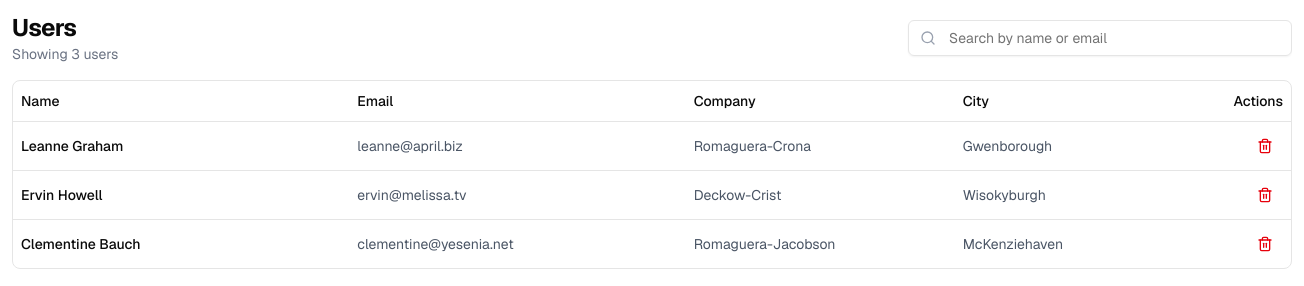
Test: UserTable Integration Tests › Search Functionality › should filter users by name
Expected: the text "Leanne Graham" is shown, [13,121,349,170]
Type "Leanne" into the field with placeholder "Search by name or email" at (1100, 38), box [908,20,1292,56]
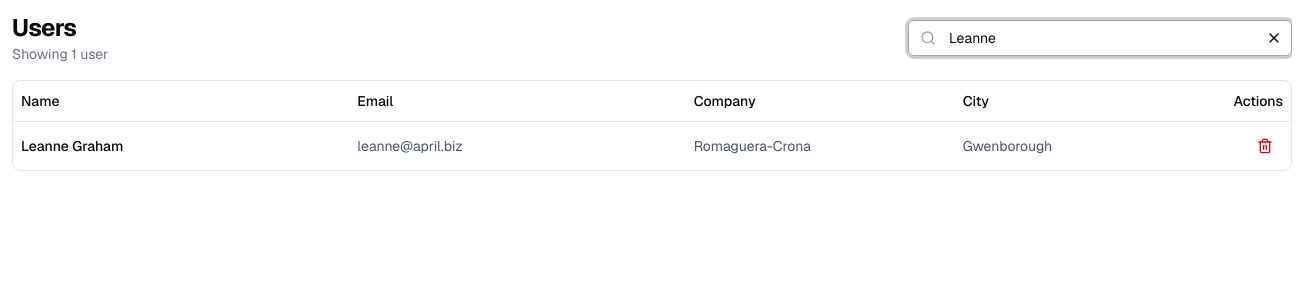
Expected: the text "Leanne Graham" is shown, [13,121,349,170]
Expected: the text "Ervin Howell" is gone
Expected: the text "Clementine Bauch" is gone
